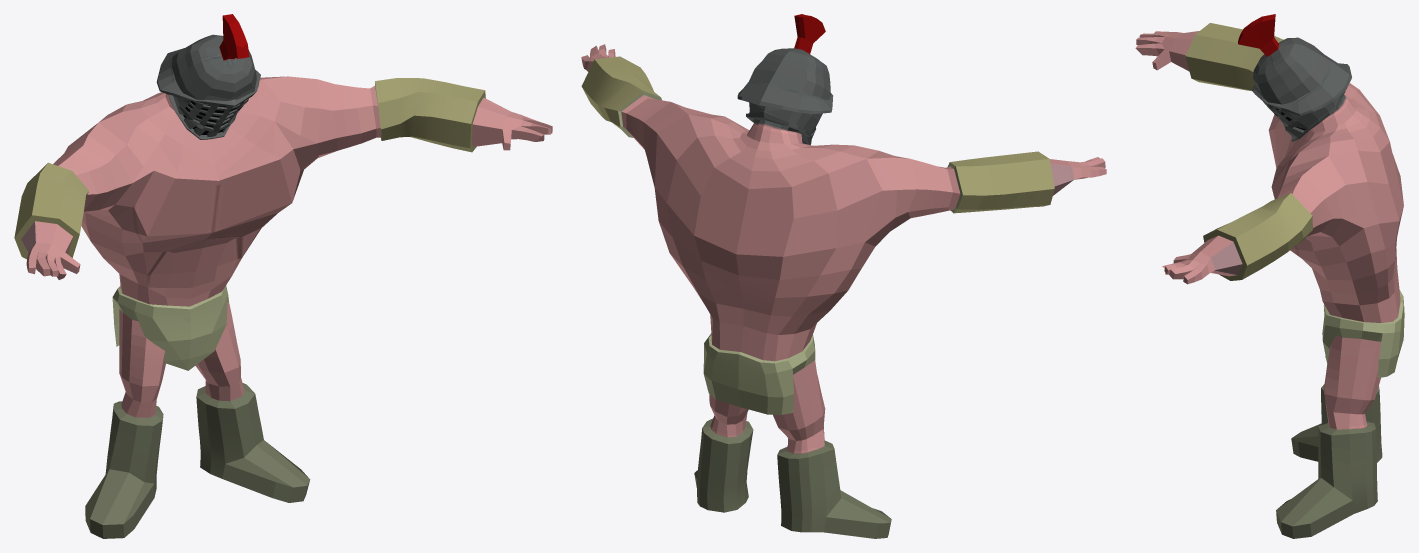
The model's file is GladiatorCelebracion_000528.obj.
3 renders of one model, left to right at view 1: azimuth 30°, elevation 25°; view 2: azimuth 150°, elevation 25°; view 3: azimuth 270°, elevation 25°, orthographic. The views are drawn at different scales.
Visible parts, largest first — view 1: Gadiador_Gladiador_H; view 2: Gadiador_Gladiador_H; view 3: Gadiador_Gladiador_H.
Part boxes in pixels (x1=…): Gadiador_Gladiador_H: x1=14, y1=14, x2=552, y2=538; Gadiador_Gladiador_H: x1=581, y1=14, x2=1106, y2=538; Gadiador_Gladiador_H: x1=1135, y1=14, x2=1404, y2=538.
Bounding box in the file's own units: 7.98 × 7.21 × 3.65.
1 material, 1 textured.
